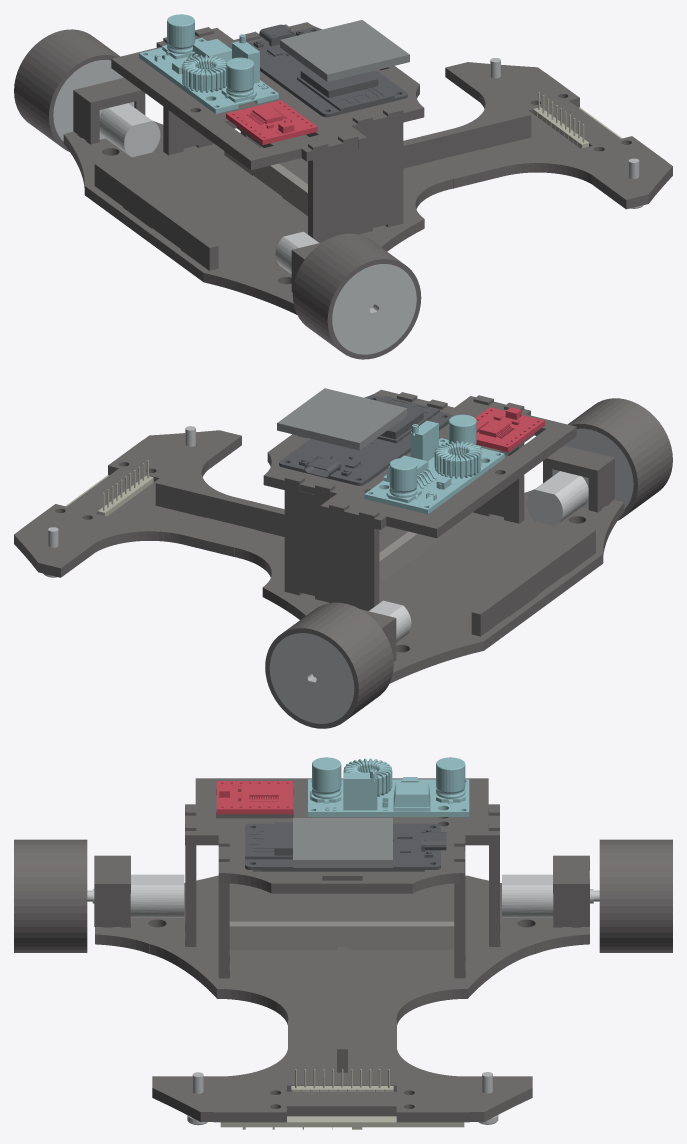
The model's file is LineBot-Hardware_assembled.glb.
3 views of the same model, one above another, from view 1: azimuth 30°, elevation 25°; view 2: azimuth 150°, elevation 25°; view 3: azimuth 270°, elevation 25° (orthographic). The views are drawn at different scales.
Visible parts, largest first — view 1: Mesh_Mesh_head_geo.001_lambert2SG.001; view 2: Mesh_Mesh_head_geo.001_lambert2SG.001; view 3: Mesh_Mesh_head_geo.001_lambert2SG.001.
Boxes of the visible parts, left/top/right/bottom form: Mesh_Mesh_head_geo.001_lambert2SG.001: left=14, top=14, right=672, bottom=359; Mesh_Mesh_head_geo.001_lambert2SG.001: left=14, top=388, right=672, bottom=728; Mesh_Mesh_head_geo.001_lambert2SG.001: left=14, top=757, right=672, bottom=1129.
Size of the model in its own units: 0.1529 by 0.0594 by 0.1799.
